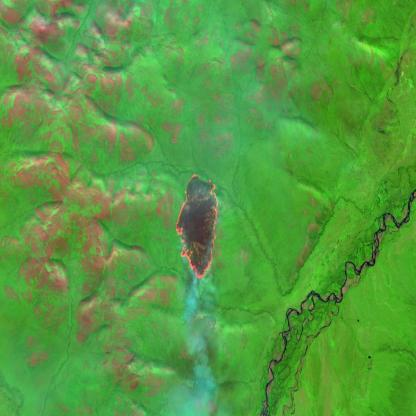fire: (170, 169, 220, 299)
